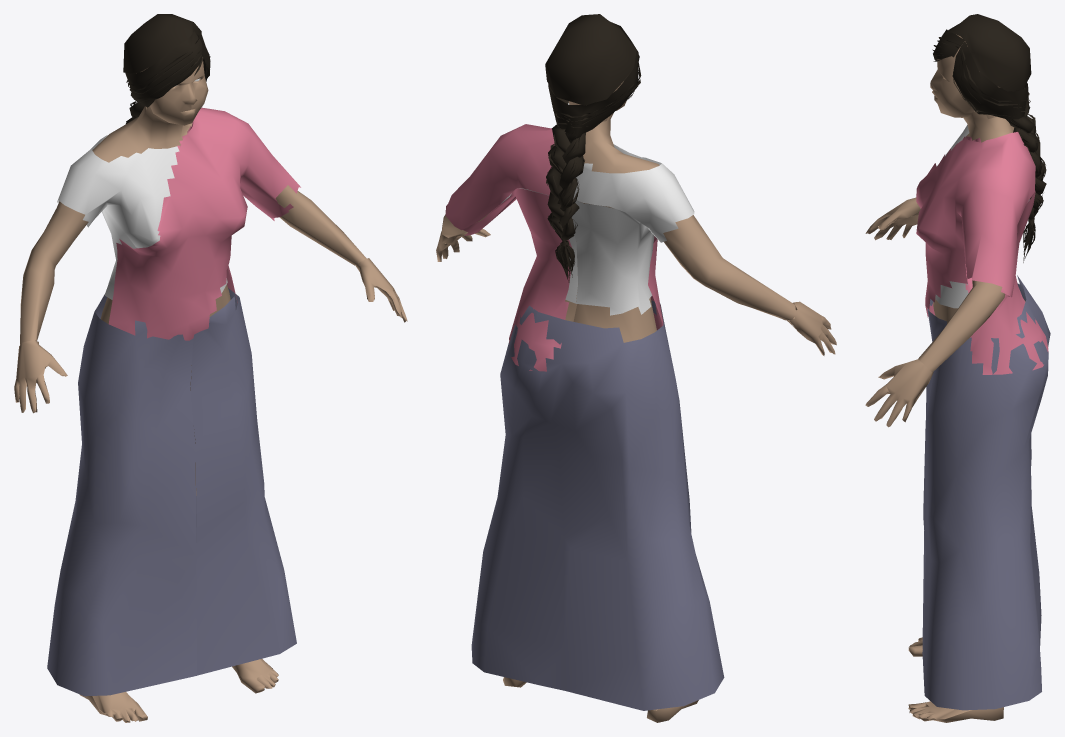
The model's file is woman_02.glb.
3 views of the same model, side by side, from view 1: azimuth 30°, elevation 25°; view 2: azimuth 150°, elevation 25°; view 3: azimuth 270°, elevation 25° (orthographic).
Visible parts, largest first — view 1: crowd; view 2: crowd; view 3: crowd.
Boxes of the visible parts, x1,y1,x2,y2 form: crowd: (14, 14, 407, 722); crowd: (436, 14, 836, 722); crowd: (865, 14, 1050, 722).
Size of the model in its own units: 0.97 by 1.61 by 0.4051.
